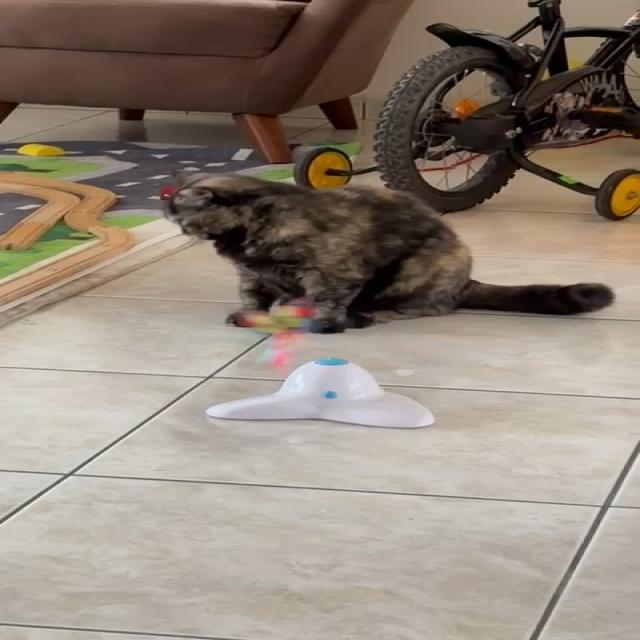authorized: (160, 168, 616, 332)
